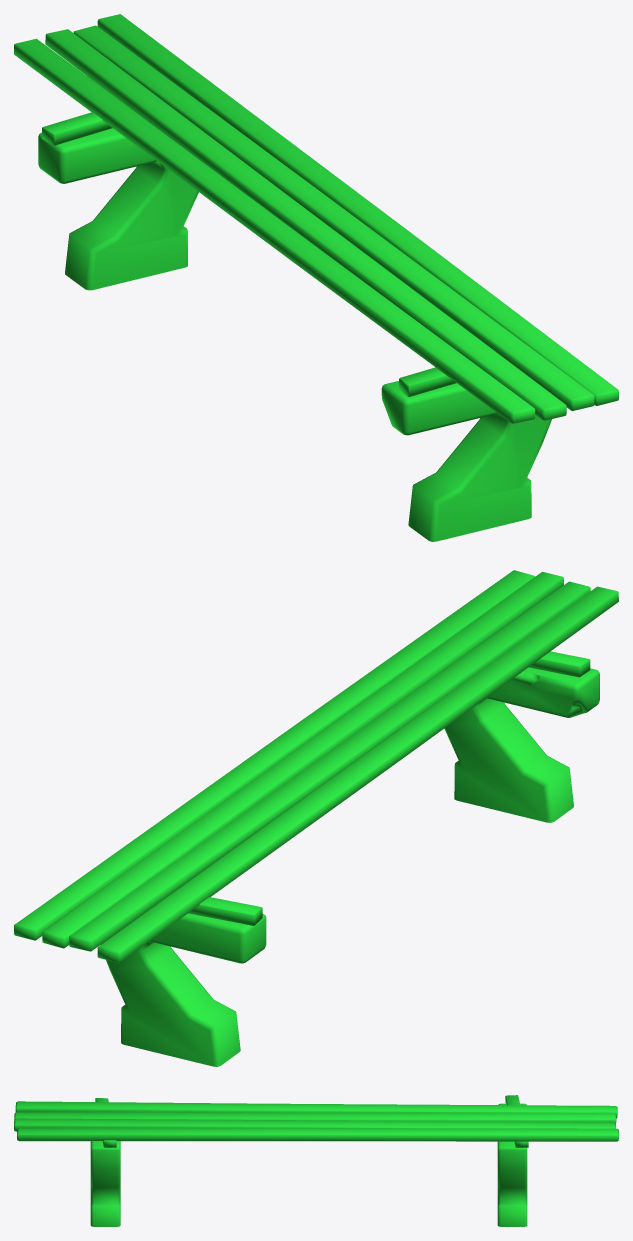
File: bench.fbx
3 views of the same model, one above another, from view 1: azimuth 30°, elevation 25°; view 2: azimuth 150°, elevation 25°; view 3: azimuth 270°, elevation 25° (orthographic). The views are drawn at different scales.
Visible parts, largest first — view 1: Plane_LOD0; view 2: Plane_LOD0; view 3: Plane_LOD0.
Boxes of the visible parts, x1,y1,x2,y2 form: Plane_LOD0: (14,14,618,541); Plane_LOD0: (14,570,618,1066); Plane_LOD0: (14,1095,618,1226).
Size of what is drawn, in the model's own units: 125 by 125 by 676.
